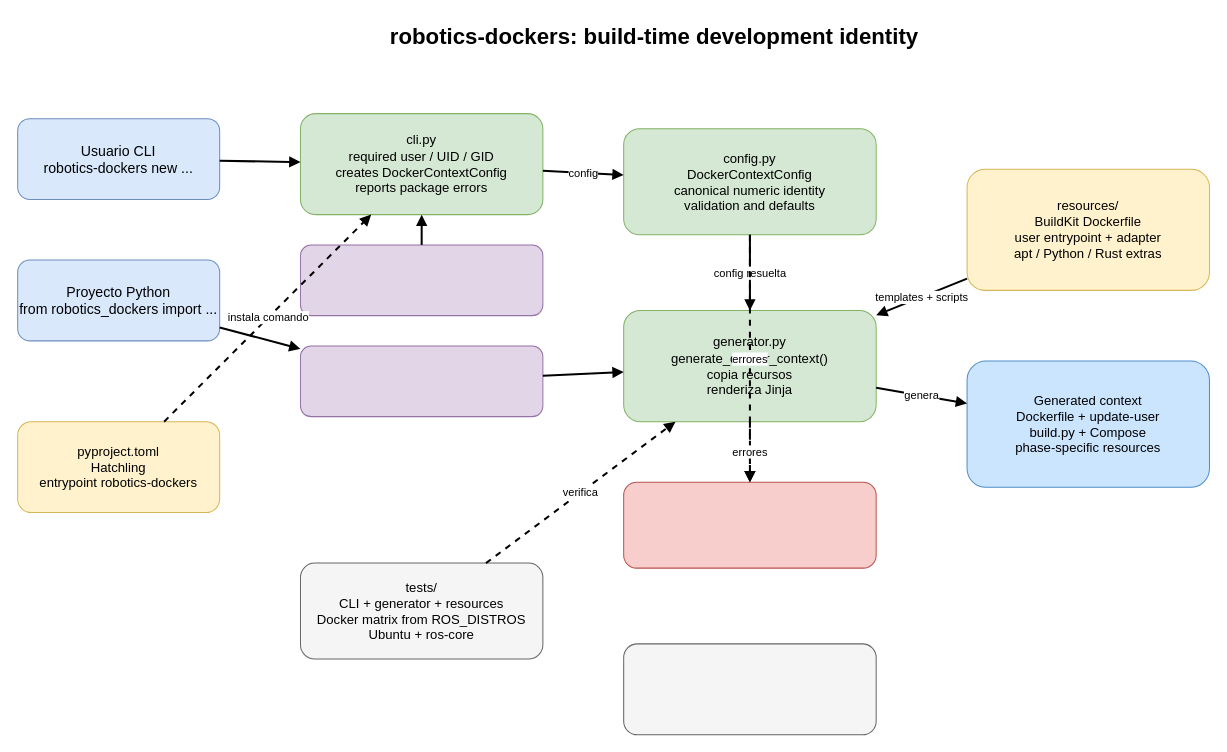
Image size: 1227x752. Some labels were removed from this diagram. The shapes that lost their labels are listed below. From the top down, each one's centre as x and y in pixels, then its label:
At pixel 421 280: "__main__.py python -m robotics_dockers".
At pixel 421 381: "__init__.py API pública importable".
At pixel 749 524: "errors.py errores propios mensajes claros para CLI/API".
At pixel 749 689: "README.md + LICENSE uso CLI uso API licencia MIT".
